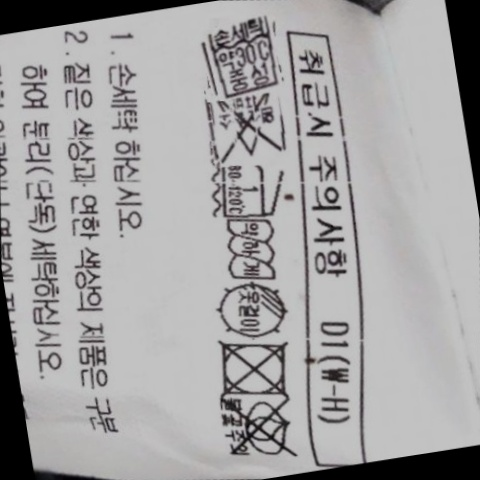DN_tumble_dry: (206, 329, 299, 406)
hand_wash: (198, 17, 286, 98)
iron_low: (211, 156, 287, 225)
line_dry_in_shade: (209, 276, 296, 344)
wring: (218, 214, 283, 287)
